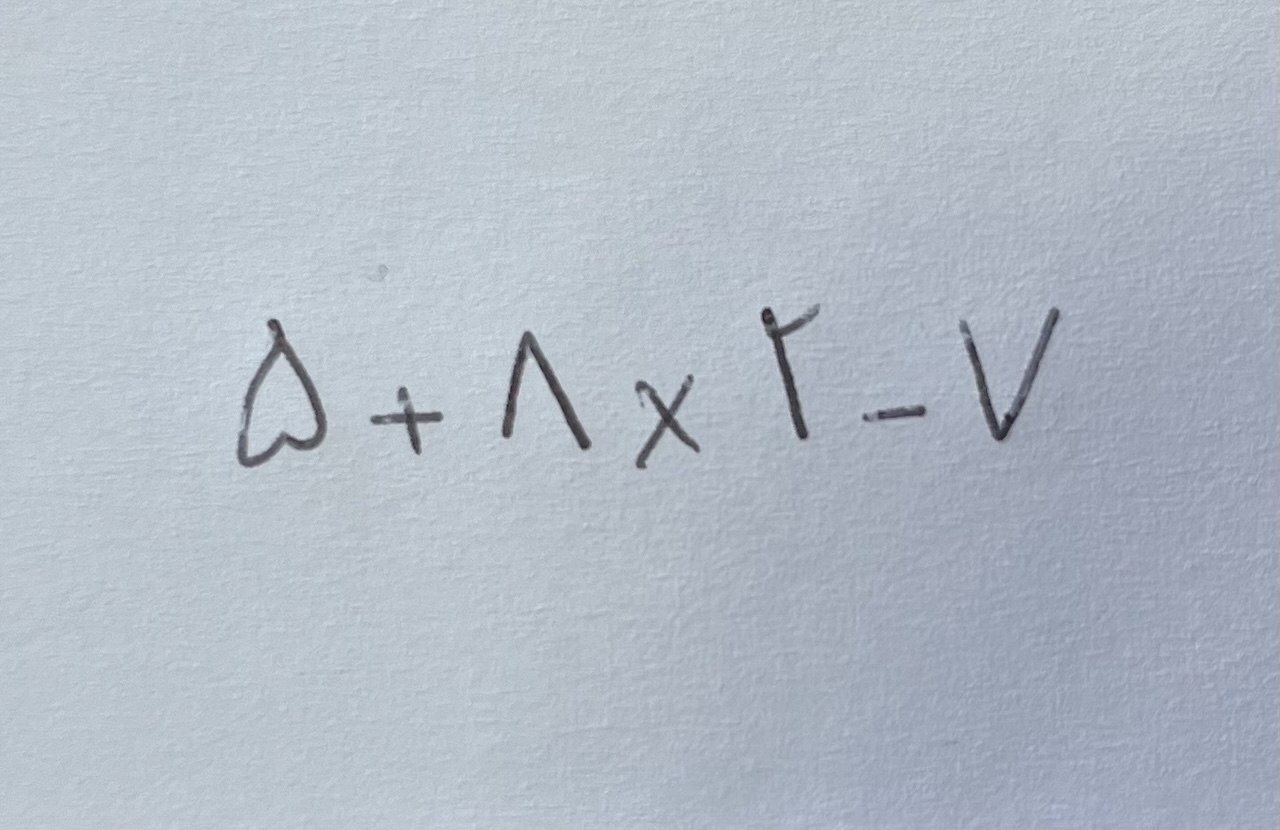character: (957, 306, 1063, 447), (236, 317, 328, 470), (501, 328, 594, 454), (760, 301, 823, 443), (633, 372, 702, 472), (370, 383, 448, 458), (859, 401, 930, 423)
